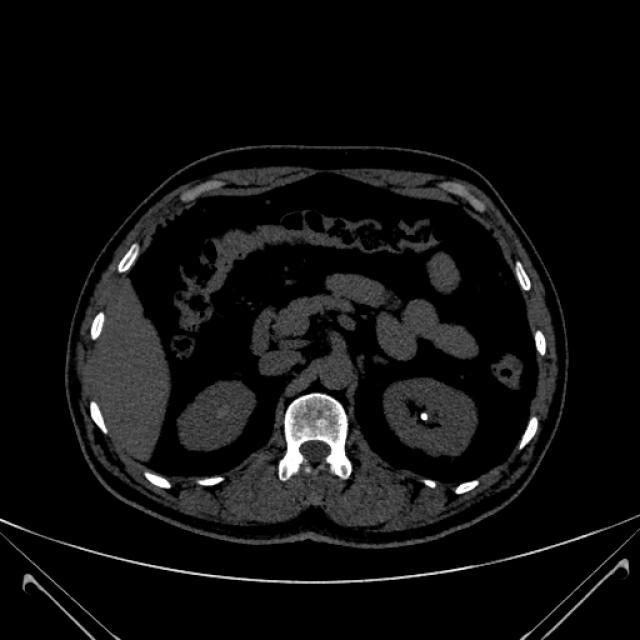kidneystone: (420, 412, 429, 421)
